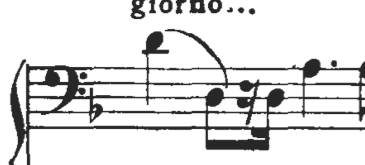bass_clef: (40, 63, 88, 118)
flat: (85, 82, 106, 129)
